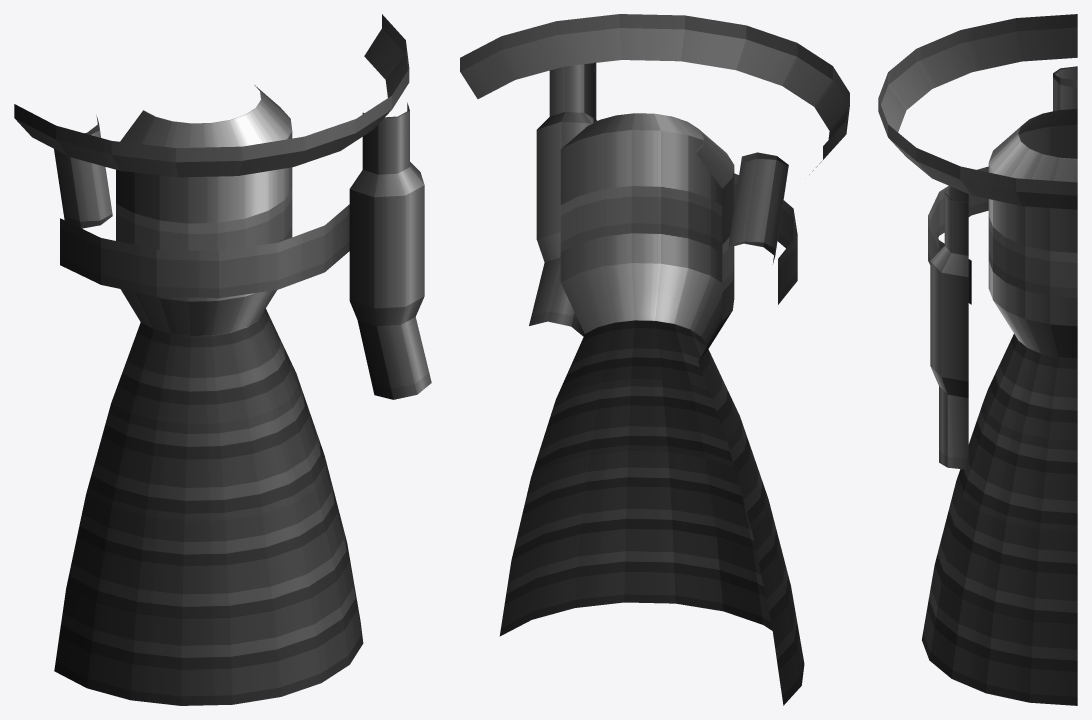
3 views of the same model, side by side, from view 1: azimuth 30°, elevation 25°; view 2: azimuth 150°, elevation 25°; view 3: azimuth 270°, elevation 25° (orthographic). The views are drawn at different scales.
Visible parts, largest first — view 1: Cylinder.002; view 2: Cylinder.002; view 3: Cylinder.002.
Part boxes in pixels (box(x1,y1,x2,y2)): Cylinder.002: box(14, 14, 431, 705); Cylinder.002: box(460, 14, 849, 705); Cylinder.002: box(878, 14, 1077, 705).
Size of the model in its own units: 2 by 3 by 1.
1 material, 1 textured.
